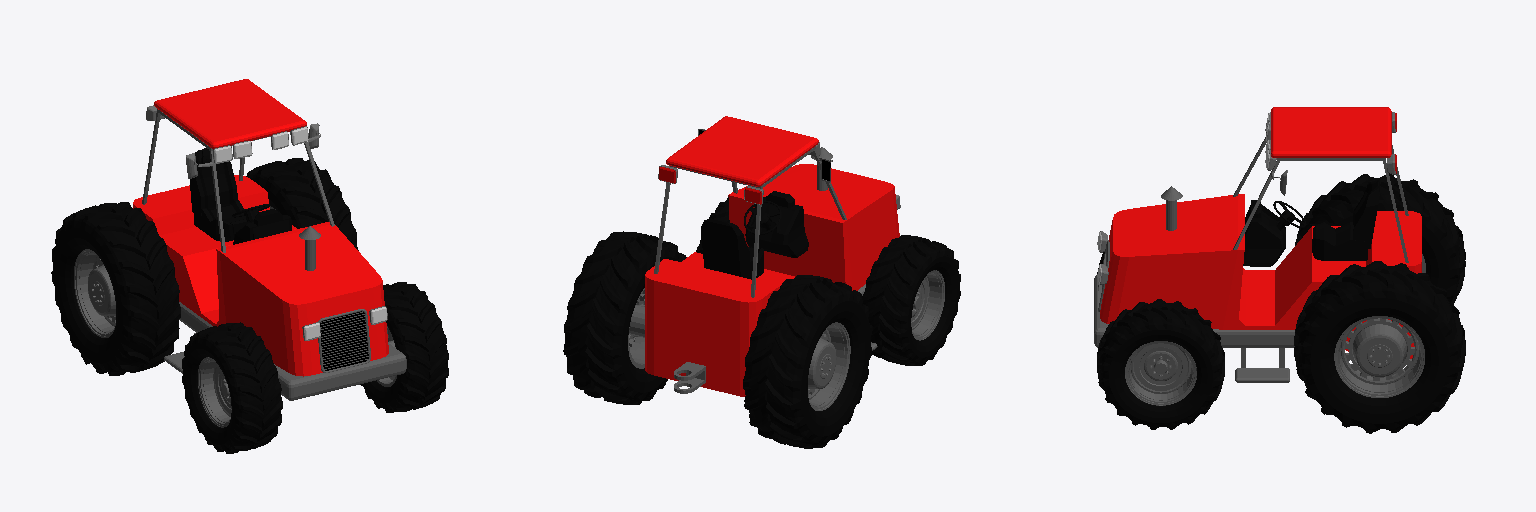
Rendered from Tractor.obj.
3 views of the same model, side by side, from view 1: azimuth 30°, elevation 25°; view 2: azimuth 150°, elevation 25°; view 3: azimuth 270°, elevation 25° (orthographic).
Parts seen in each view (by area): view 1: main_body, tyre_B, tyre_FR, tyre_FL, roof, chair, botom_body, Rim_B, rim_FR, inside_grill, window, meter_board (+4 smaller); view 2: tyre_B, main_body, tyre_FR, roof, Rim_B, chair, meter_board, rim_FR, window, conector; view 3: tyre_B, main_body, tyre_FL, roof, Rim_B, rim_FL, chair, meter_board, botom_body, window, L_ladder, exoz.
Boxes of the visible parts, <box> form: main_body: <box>133,175,388,376</box>; tyre_B: <box>51,158,358,375</box>; tyre_FR: <box>182,322,282,453</box>; tyre_FL: <box>360,282,448,412</box>; roof: <box>154,79,306,148</box>; chair: <box>190,148,269,241</box>; botom_body: <box>179,302,406,400</box>; Rim_B: <box>74,206,275,337</box>; rim_FR: <box>198,357,231,427</box>; inside_grill: <box>320,311,368,370</box>; window: <box>142,109,334,252</box>; meter_board: <box>233,209,291,244</box>; tyre_B: <box>563,231,872,448</box>; main_body: <box>645,164,899,396</box>; tyre_FR: <box>862,235,960,365</box>; roof: <box>666,116,818,186</box>; Rim_B: <box>628,288,850,410</box>; chair: <box>701,201,781,279</box>; meter_board: <box>745,191,808,257</box>; rim_FR: <box>911,270,944,340</box>; window: <box>654,146,846,297</box>; conector: <box>674,362,705,393</box>; tyre_B: <box>1294,173,1465,433</box>; main_body: <box>1100,194,1421,358</box>; tyre_FL: <box>1097,299,1224,429</box>; roof: <box>1271,107,1391,157</box>; Rim_B: <box>1334,254,1425,397</box>; rim_FL: <box>1125,341,1196,405</box>; chair: <box>1273,180,1379,260</box>; meter_board: <box>1243,200,1285,266</box>; botom_body: <box>1094,274,1294,347</box>; window: <box>1233,137,1408,262</box>; L_ladder: <box>1235,348,1289,382</box>; exoz: <box>1161,186,1182,230</box>.
Bounding box in the file's own units: 49.37 × 50.75 × 67.5.